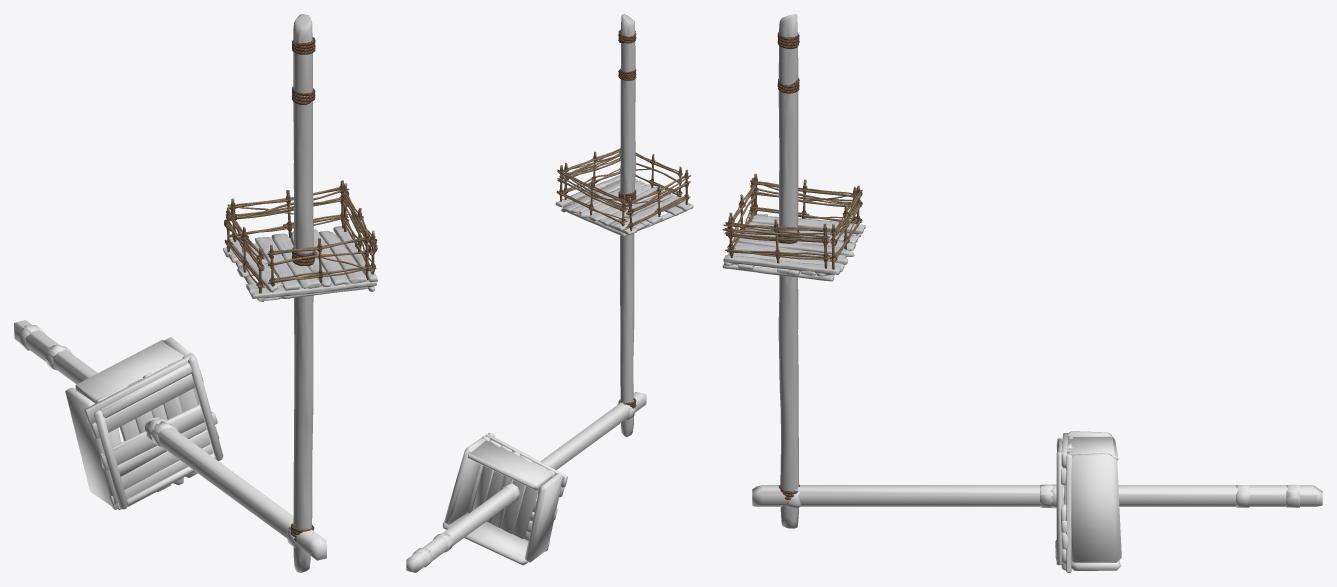
Rendered from SM_FlagPole.fbx.
The picture shows the model from 3 angles, left to right: view 1: azimuth 30°, elevation 25°; view 2: azimuth 150°, elevation 25°; view 3: azimuth 270°, elevation 25°; orthographic projection. The views are drawn at different scales.
Parts seen in each view (by area): view 1: SM_FlagPole_ConvexHulls, SM_FlagPole; view 2: SM_FlagPole_ConvexHulls, SM_FlagPole; view 3: SM_FlagPole_ConvexHulls, SM_FlagPole.
Boxes of the visible parts, box(x1,y1,x2,y2) form: SM_FlagPole_ConvexHulls: box(14, 320, 326, 560); SM_FlagPole: box(223, 14, 377, 572); SM_FlagPole_ConvexHulls: box(406, 392, 646, 572); SM_FlagPole: box(555, 14, 693, 436); SM_FlagPole_ConvexHulls: box(752, 431, 1322, 572); SM_FlagPole: box(722, 14, 865, 528).
Size of the model in its own units: 3.24 by 13.13 by 12.9.
